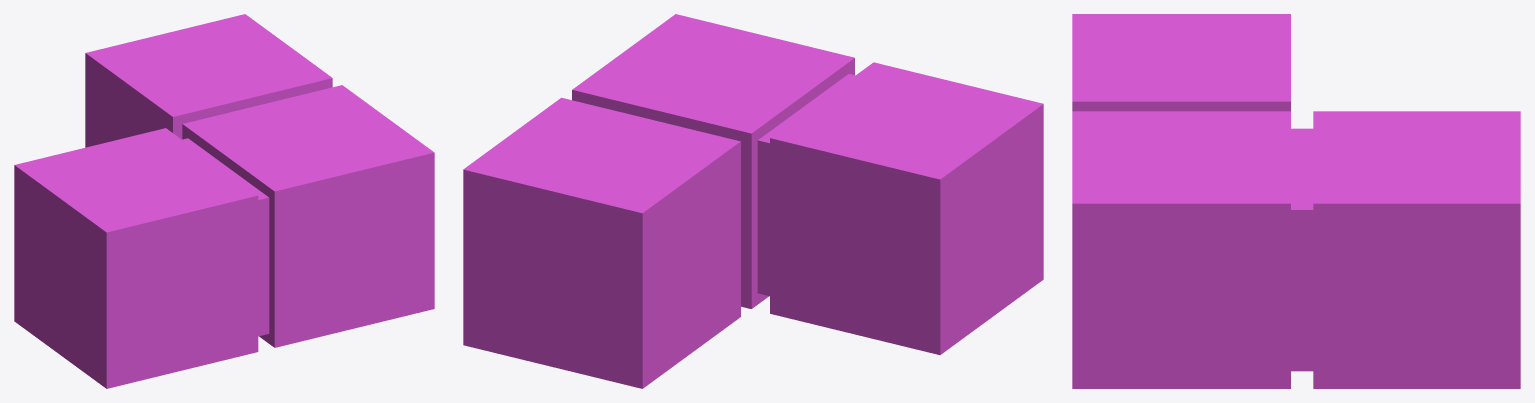
Rendered from block_piece_6.fbx.
The picture shows the model from 3 angles, left to right: view 1: azimuth 30°, elevation 25°; view 2: azimuth 150°, elevation 25°; view 3: azimuth 270°, elevation 25°; orthographic projection. The views are drawn at different scales.
Parts seen in each view (by area): view 1: Piece6; view 2: Piece6; view 3: Piece6.
Boxes of the visible parts, bbox=[...] form: Piece6: bbox=[14, 14, 434, 388]; Piece6: bbox=[463, 14, 1043, 388]; Piece6: bbox=[1072, 14, 1520, 388].
Bounding box in the file's own units: 47.66 × 21.73 × 47.66.
